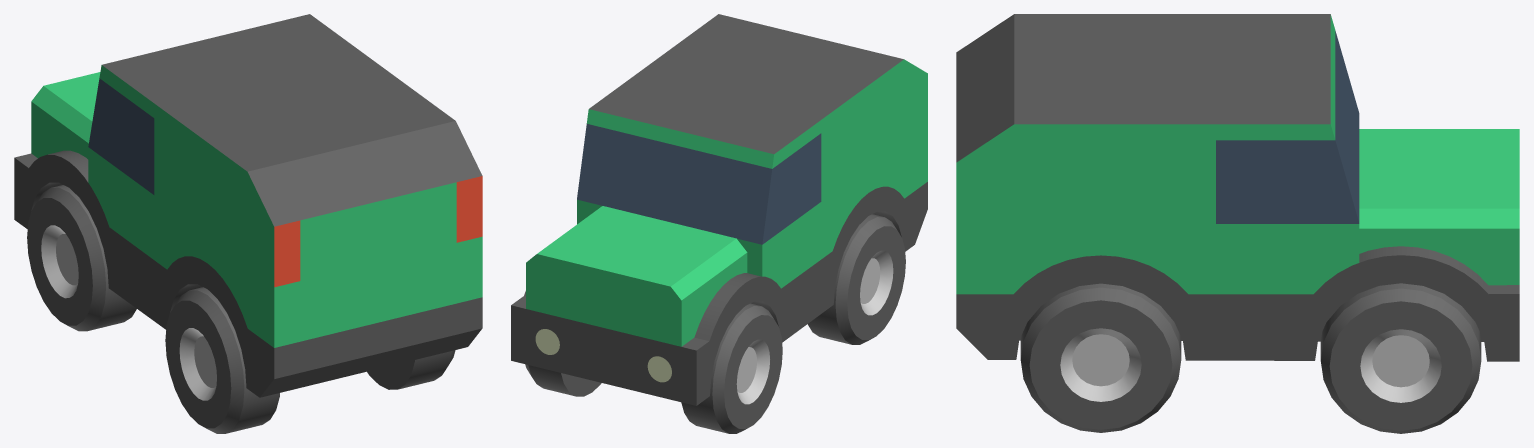
File: carJeep.fbx
3 views of the same model, side by side, from view 1: azimuth 30°, elevation 25°; view 2: azimuth 150°, elevation 25°; view 3: azimuth 270°, elevation 25° (orthographic). The views are drawn at different scales.
Parts seen in each view (by area): view 1: body 4, wheelBackLeft 4, wheelFrontLeft 4, wheelBackRight 4; view 2: body 4, wheelFrontLeft 4, wheelBackLeft 4, wheelFrontRight 4; view 3: body 4, wheelFrontRight 4, wheelBackRight 4.
Part boxes in pixels (left/top/right/bottom): body 4: left=14, top=14, right=482, bottom=397; wheelBackLeft 4: left=165, top=287, right=279, bottom=433; wheelFrontLeft 4: left=27, top=185, right=136, bottom=331; wheelBackRight 4: left=367, top=350, right=455, bottom=389; body 4: left=511, top=14, right=927, bottom=405; wheelFrontLeft 4: left=681, top=303, right=782, bottom=433; wheelBackLeft 4: left=807, top=214, right=905, bottom=344; wheelFrontRight 4: left=525, top=364, right=601, bottom=396; body 4: left=956, top=14, right=1519, bottom=361; wheelFrontRight 4: left=1320, top=283, right=1481, bottom=433; wheelBackRight 4: left=1020, top=283, right=1181, bottom=432.
Size of the model in its own units: 4.95 by 5.99 by 9.83.
